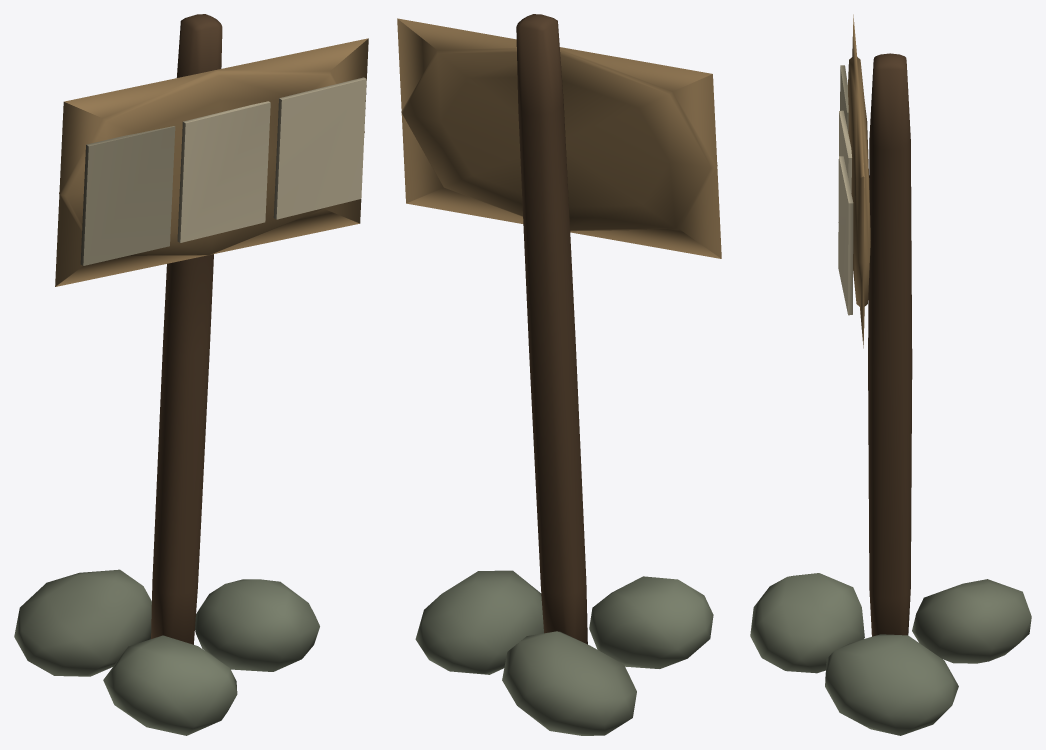
File: notice_post_a.glb
3 views of the same model, side by side, from view 1: azimuth 30°, elevation 25°; view 2: azimuth 150°, elevation 25°; view 3: azimuth 270°, elevation 25° (orthographic). The views are drawn at different scales.
Parts seen in each view (by area): view 1: Surface; view 2: Surface; view 3: Surface.
Boxes of the visible parts, bbox=[...] form: Surface: bbox=[14, 14, 368, 735]; Surface: bbox=[397, 14, 721, 735]; Surface: bbox=[750, 14, 1031, 735].
Size of the model in its own units: 1.13 by 2.24 by 0.8907.
